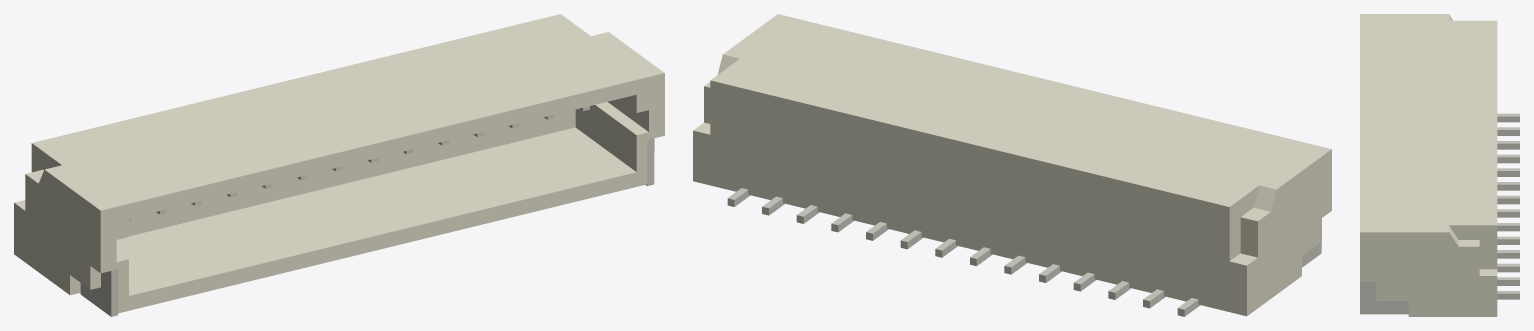
The model's file is kc-jst_sh_sm14b-srss-tb_1x14-1mp_p1.00mm_horizontal.glb.
3 renders of one model, left to right at view 1: azimuth 30°, elevation 25°; view 2: azimuth 150°, elevation 25°; view 3: azimuth 270°, elevation 25°, orthographic. The views are drawn at different scales.
Parts seen in each view (by area): view 1: 0.75_0.75_0.6666666666666666_0, 0.6666666666666666_0.6666666666666666_0.5833333333333334_0.8; view 2: 0.75_0.75_0.6666666666666666_0, 0.6666666666666666_0.6666666666666666_0.5833333333333334_0.8; view 3: 0.75_0.75_0.6666666666666666_0, 0.6666666666666666_0.6666666666666666_0.5833333333333334_0.8.
Boxes of the visible parts, <box> form: 0.75_0.75_0.6666666666666666_0: <box>14,14,664,313</box>; 0.6666666666666666_0.6666666666666666_0.5833333333333334_0.8: <box>80,106,654,316</box>; 0.75_0.75_0.6666666666666666_0: <box>693,14,1331,316</box>; 0.6666666666666666_0.6666666666666666_0.5833333333333334_0.8: <box>727,188,1321,316</box>; 0.75_0.75_0.6666666666666666_0: <box>1360,14,1497,316</box>; 0.6666666666666666_0.6666666666666666_0.5833333333333334_0.8: <box>1360,113,1519,314</box>.
Size of the model in its own units: 1.6 by 0.296 by 0.495.
